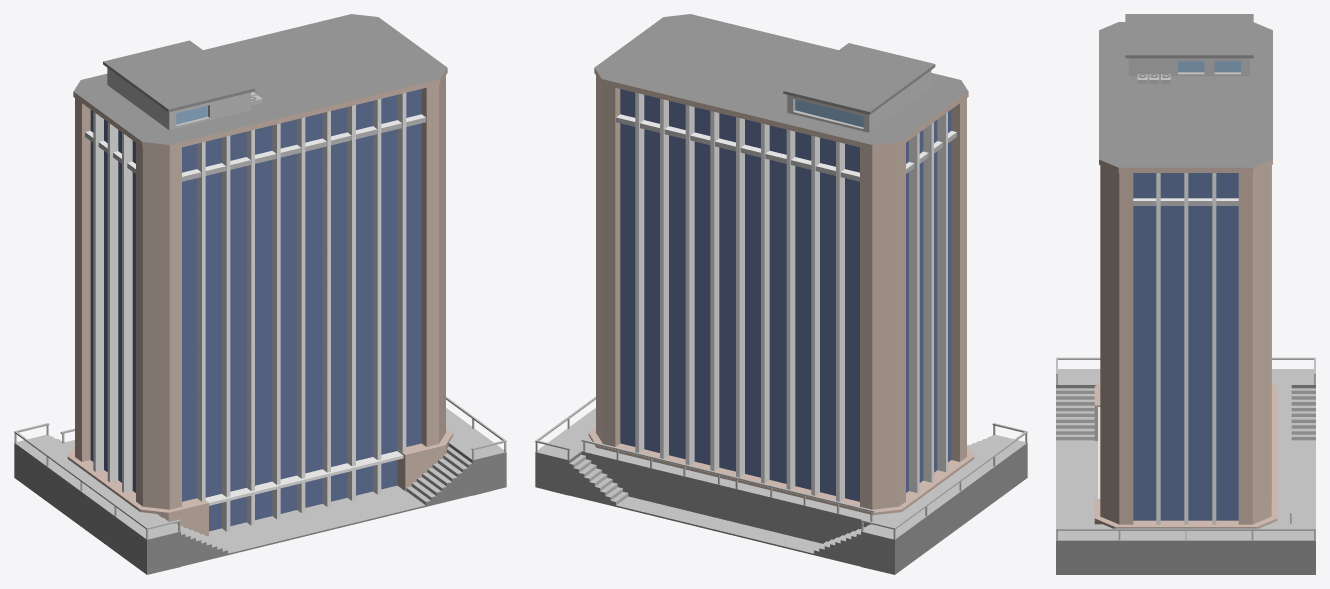
File: business_center_010.fbx
The picture shows the model from 3 angles, left to right: view 1: azimuth 30°, elevation 25°; view 2: azimuth 150°, elevation 25°; view 3: azimuth 270°, elevation 25°; orthographic projection. The views are drawn at different scales.
Visible parts, largest first — view 1: business_center_010; view 2: business_center_010; view 3: business_center_010.
Boxes of the visible parts, x1,y1,x2,y2 form: business_center_010: [14, 14, 506, 574]; business_center_010: [535, 14, 1027, 574]; business_center_010: [1056, 14, 1315, 574].
Size of the model in its own units: 2338 by 2671 by 1495.
